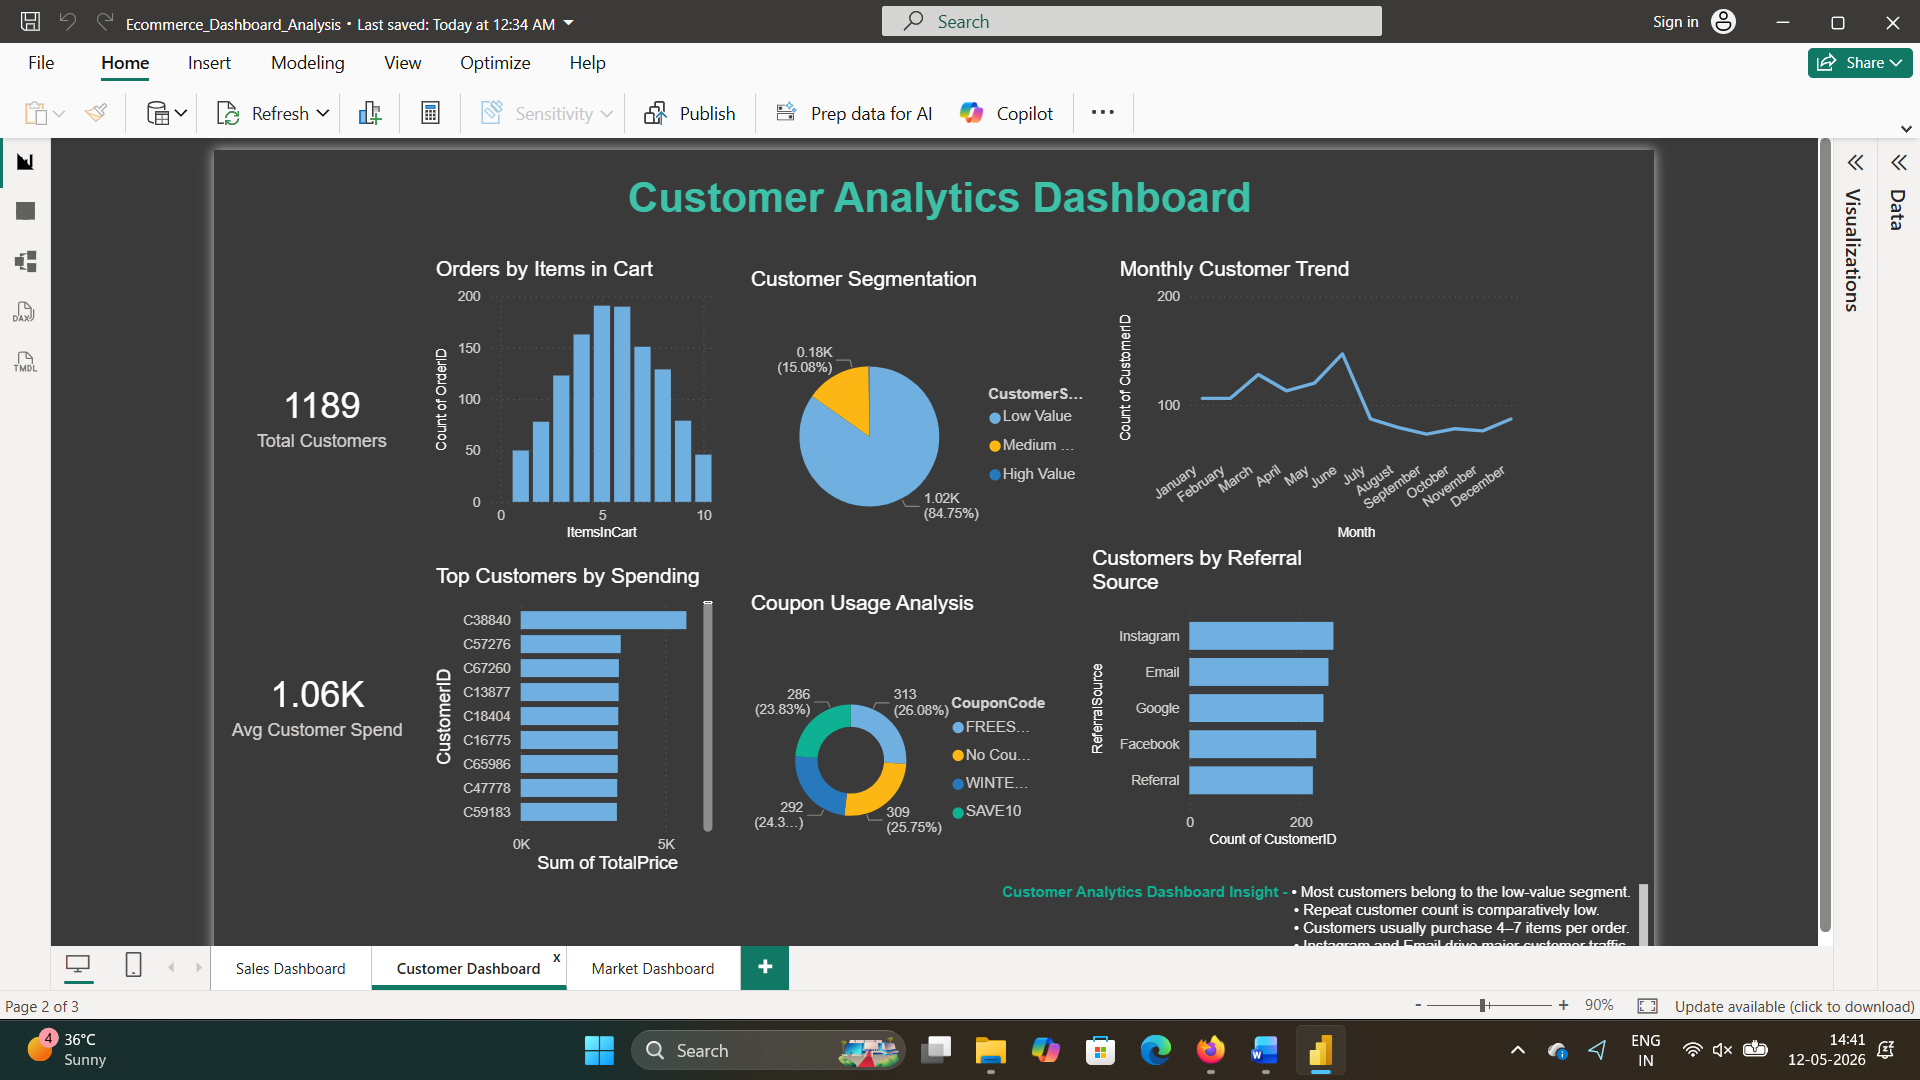

This screenshot's page, from the dashboard's own definition file:
{"tool":"powerbi","page":{"name":"Customer Dashboard","canvas":[1280,720],"ordinal":1},"visuals":[{"type":"barChart","title":"Top Customers by Spending","fields":{"Y":["Sum(cleaned_orders.TotalPrice)"],"Category":["cleaned_orders.CustomerID"]},"box":[192,368,256,280],"z":0},{"type":"pieChart","title":"Customer Segmentation","fields":{"Category":["cleaned_orders.CustomerSegment"],"Y":["CountNonNull(cleaned_orders.CustomerID)"]},"box":[472,104,312,280],"z":1000},{"type":"donutChart","title":"Coupon Usage Analysis","fields":{"Category":["cleaned_orders.CouponCode"],"Y":["CountNonNull(cleaned_orders.OrderID)"]},"box":[472,392,280,280],"z":2000},{"type":"clusteredColumnChart","title":"Orders by Items in Cart","fields":{"Category":["cleaned_orders.ItemsInCart"],"Y":["CountNonNull(cleaned_orders.OrderID)"]},"box":[192,96,256,256],"z":3000},{"type":"card","title":"Total ","fields":{"Values":["Count(cleaned_orders.CustomerID)"]},"box":[0,96,192,280],"z":4000},{"type":"card","fields":{"Values":["cleaned_orders.Avg Customer Spend"]},"box":[0,352,184,280],"z":5000},{"type":"barChart","title":"Customers by Referral Source","fields":{"Category":["cleaned_orders.ReferralSource"],"Y":["CountNonNull(cleaned_orders.CustomerID)"]},"box":[776,352,256,272],"z":7000},{"type":"lineChart","title":"Monthly Customer Trend","fields":{"Category":["cleaned_orders.Month"],"Y":["CountNonNull(cleaned_orders.CustomerID)"]},"box":[800,96,368,256],"z":8000},{"type":"textbox","box":[0,16,1280,64],"z":9000},{"type":"textbox","box":[696,648,584,72],"z":9001}]}

Visuals, with their boxes on the page's 1280x720 design canvas (x1, y1, x2, y2). These are canvas units, not pixel positions in the 1920x1080 screenshot, which may show the page scaled, cropped or inside an application window:
"Top Customers by Spending" barChart: box(192, 368, 448, 648)
"Customer Segmentation" pieChart: box(472, 104, 784, 384)
"Coupon Usage Analysis" donutChart: box(472, 392, 752, 672)
"Orders by Items in Cart" clusteredColumnChart: box(192, 96, 448, 352)
"Total " card: box(0, 96, 192, 376)
card - cleaned_orders.Avg Customer Spend: box(0, 352, 184, 632)
"Customers by Referral Source" barChart: box(776, 352, 1032, 624)
"Monthly Customer Trend" lineChart: box(800, 96, 1168, 352)
textbox: box(0, 16, 1280, 80)
textbox: box(696, 648, 1280, 720)
